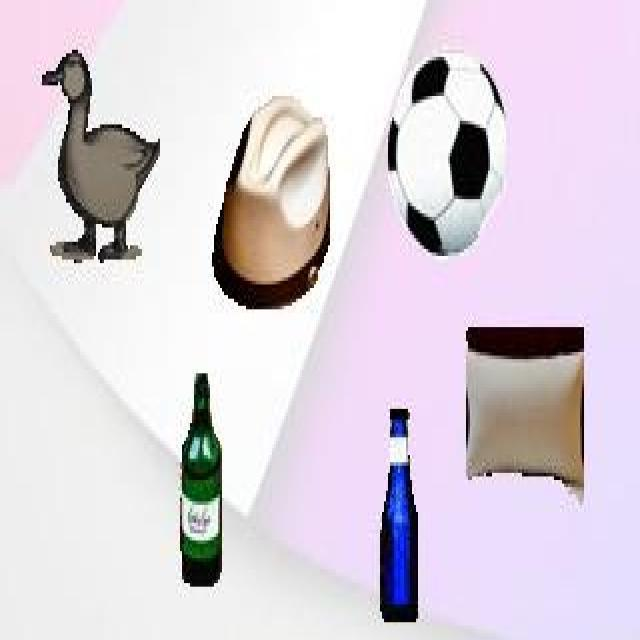Other Objects: (209, 94, 331, 312), (42, 49, 162, 262), (466, 324, 584, 504), (180, 372, 223, 588), (379, 406, 419, 623)
